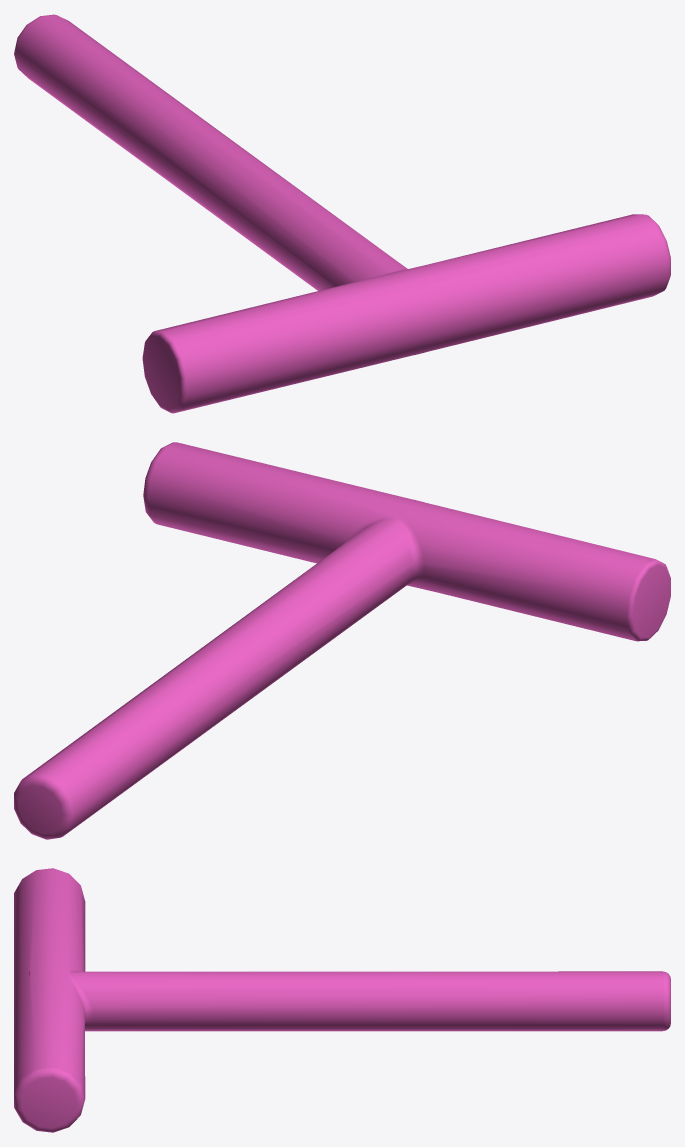
Rendered from rastrillo.fbx.
The picture shows the model from 3 angles, top to bottom: view 1: azimuth 30°, elevation 25°; view 2: azimuth 150°, elevation 25°; view 3: azimuth 270°, elevation 25°; orthographic projection. The views are drawn at different scales.
Parts seen in each view (by area): view 1: rastrillo; view 2: rastrillo; view 3: rastrillo.
Boxes of the visible parts, x1=… form: rastrillo: x1=14, y1=14, x2=670, y2=413; rastrillo: x1=14, y1=442, x2=670, y2=839; rastrillo: x1=14, y1=868, x2=670, y2=1132.
Size of the model in its own units: 12 by 1.79 by 16.37.
